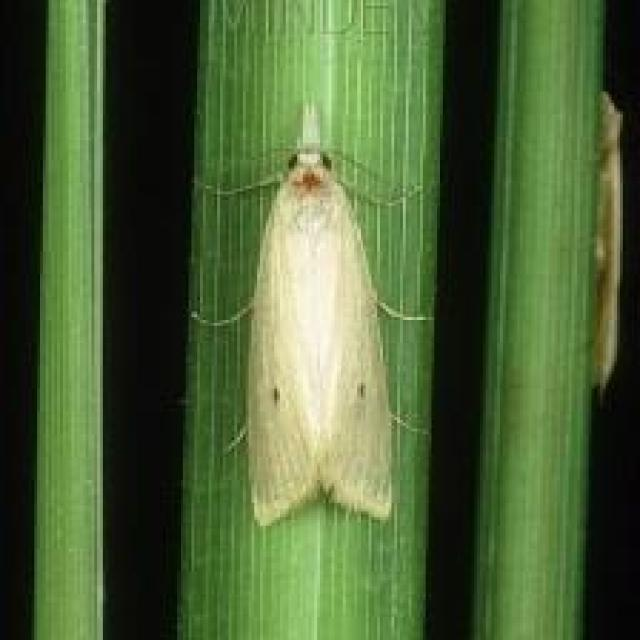yellow-stem-borer: (173, 81, 485, 535)
